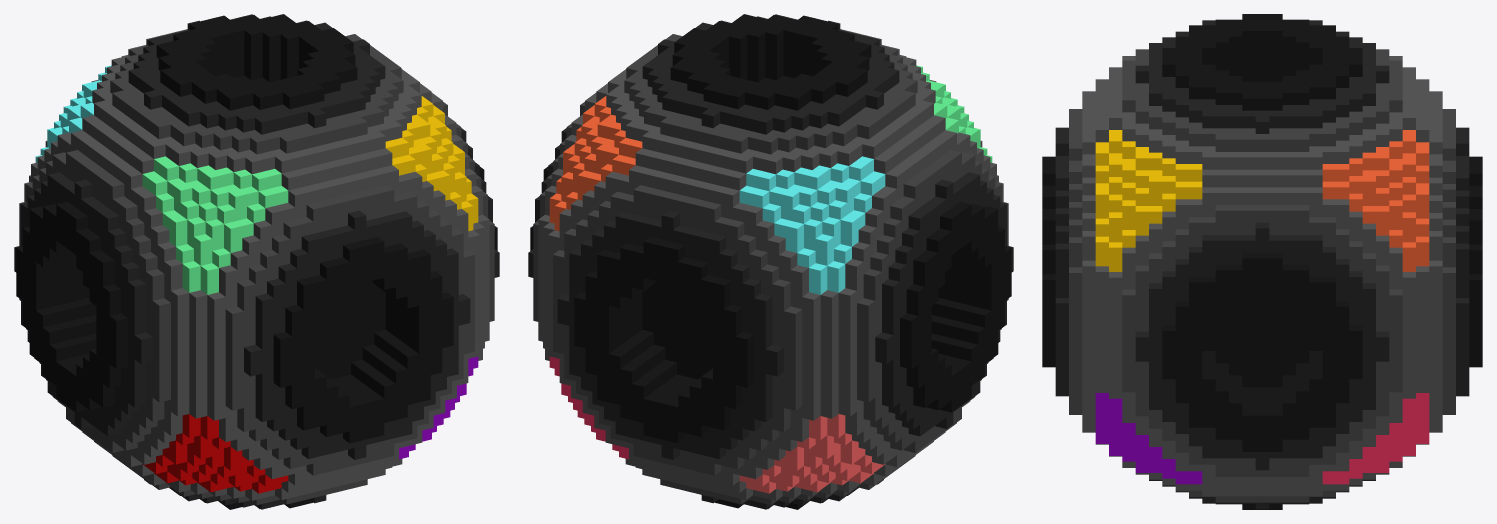
Rendered from TrampaVapor.FBX.
The picture shows the model from 3 angles, left to right: view 1: azimuth 30°, elevation 25°; view 2: azimuth 150°, elevation 25°; view 3: azimuth 270°, elevation 25°; orthographic projection.
Visible parts, largest first — view 1: TrampaVapor; view 2: TrampaVapor; view 3: TrampaVapor.
Boxes of the visible parts, x1=… form: TrampaVapor: x1=14, y1=14, x2=499, y2=509; TrampaVapor: x1=528, y1=14, x2=1013, y2=509; TrampaVapor: x1=1042, y1=14, x2=1482, y2=509.
Bounding box in the file's own units: 0.9999 × 1.03 × 0.9999.
1 material, 1 textured.
